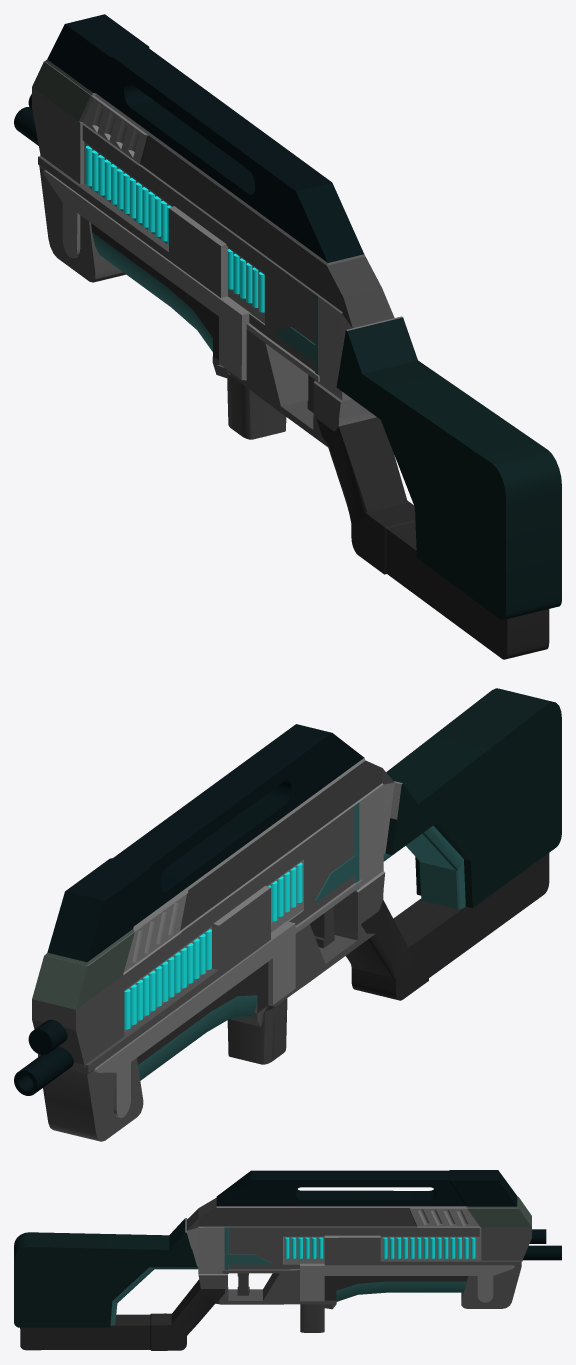
File: Sci Fi SMG.fbx
3 views of the same model, one above another, from view 1: azimuth 30°, elevation 25°; view 2: azimuth 150°, elevation 25°; view 3: azimuth 270°, elevation 25° (orthographic). The views are drawn at different scales.
Visible parts, largest first — view 1: Cube.001, Cube.003, Cube.005; view 2: Cube.001, Cube.003, Cube.005, Cylinder.001, Cylinder.002, Cube.006; view 3: Cube.001, Cube.003, Cube.005, Cylinder.001, Cube.006.
Part boxes in pixels (x1,y1,x2,y2): Cube.001: (32, 59, 402, 449); Cube.003: (316, 317, 561, 659); Cube.005: (47, 14, 363, 262); Cube.001: (32, 758, 465, 1141); Cube.003: (346, 688, 561, 1000); Cube.005: (47, 724, 364, 962); Cylinder.001: (14, 1046, 73, 1095); Cylinder.002: (28, 1019, 67, 1054); Cube.006: (310, 906, 334, 948); Cube.001: (110, 1196, 531, 1332); Cube.003: (14, 1218, 224, 1350); Cube.005: (216, 1170, 517, 1206); Cylinder.001: (523, 1245, 561, 1260); Cube.006: (237, 1273, 249, 1295).
Bounding box in the file's own units: 0.1124 × 0.6054 × 1.77.
